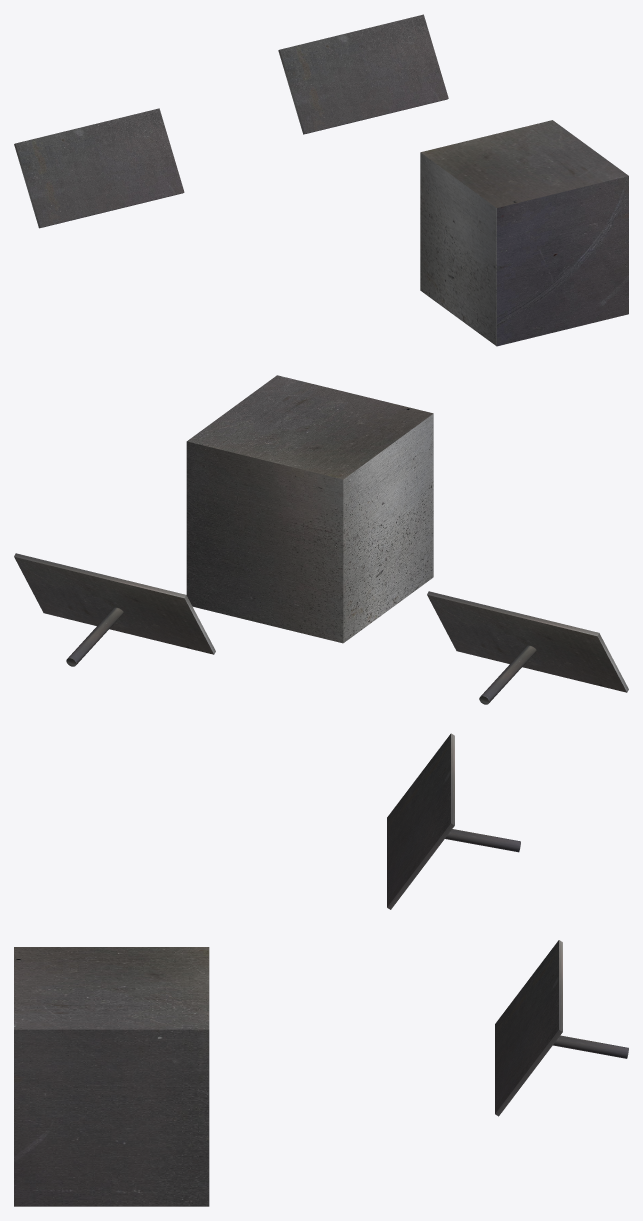
Rendered from InfoFrame.fbx.
The picture shows the model from 3 angles, top to bottom: view 1: azimuth 30°, elevation 25°; view 2: azimuth 150°, elevation 25°; view 3: azimuth 270°, elevation 25°; orthographic projection. The views are drawn at different scales.
Parts seen in each view (by area): view 1: Cube, Cube.001, Cube.002; view 2: Cube, Cube.002, Cube.001, Cylinder.001, Cylinder; view 3: Cube, Cube.001, Cube.002, Cylinder, Cylinder.001.
Boxes of the visible parts, x1,y1,x2,y2 form: Cube: (420, 120, 628, 346); Cube.001: (278, 14, 448, 134); Cube.002: (14, 108, 184, 228); Cube: (186, 375, 433, 643); Cube.002: (427, 591, 628, 692); Cube.001: (14, 553, 215, 654); Cylinder.001: (479, 645, 536, 704); Cylinder: (66, 607, 123, 666); Cube: (14, 947, 209, 1206); Cube.001: (495, 940, 562, 1116); Cube.002: (387, 733, 454, 909); Cylinder: (553, 1035, 628, 1058); Cylinder.001: (445, 829, 520, 852).
Bounding box in the file's own units: 682 × 222 × 630.
